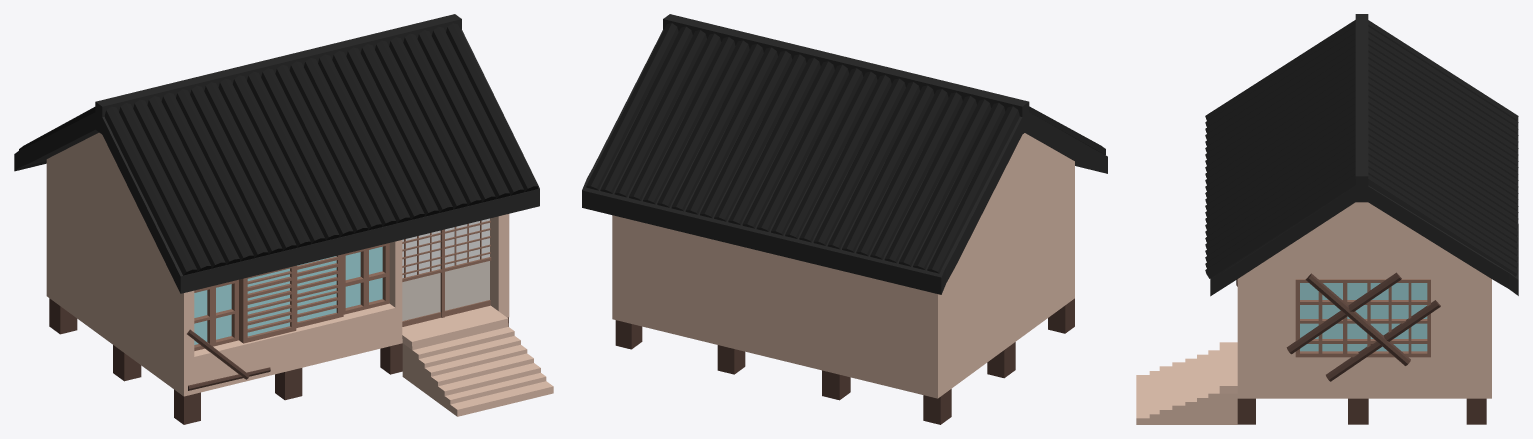
File: Luna_housejapan.fbx
3 renders of one model, left to right at view 1: azimuth 30°, elevation 25°; view 2: azimuth 150°, elevation 25°; view 3: azimuth 270°, elevation 25°, orthographic. The views are drawn at different scales.
Parts seen in each view (by area): view 1: dak tiles, home, dak, stairs, ramen balk, windows, stean balk, door board, door frame, door window, balk; view 2: dak tiles, home, dak, stean balk; view 3: dak tiles, home, dak, stairs, windows, ramen balk, blak 2, stean balk.
Boxes of the visible parts, bbox=[...] form: dak tiles: bbox=[19, 23, 538, 275]; home: bbox=[46, 132, 509, 396]; dak: bbox=[14, 14, 539, 293]; stairs: bbox=[402, 311, 553, 416]; ramen balk: bbox=[194, 243, 389, 350]; windows: bbox=[194, 246, 382, 344]; stean balk: bbox=[49, 298, 508, 424]; door board: bbox=[402, 261, 489, 320]; door frame: bbox=[402, 220, 491, 326]; door window: bbox=[402, 218, 489, 278]; balk: bbox=[187, 329, 270, 390]; dak tiles: bbox=[586, 23, 1105, 273]; home: bbox=[612, 133, 1074, 398]; dak: bbox=[582, 14, 1107, 294]; stean balk: bbox=[615, 298, 1074, 424]; dak tiles: bbox=[1205, 20, 1518, 278]; home: bbox=[1237, 202, 1491, 398]; dak: bbox=[1210, 14, 1518, 296]; stairs: bbox=[1136, 342, 1237, 424]; windows: bbox=[1300, 283, 1427, 351]; ramen balk: bbox=[1295, 279, 1430, 357]; blak 2: bbox=[1286, 272, 1440, 381]; stean balk: bbox=[1237, 398, 1486, 424].
Size of the model in its own units: 9.62 by 7.18 by 9.55.
